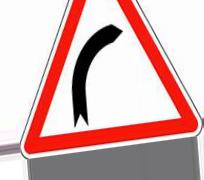right: (18, 1, 204, 159)
